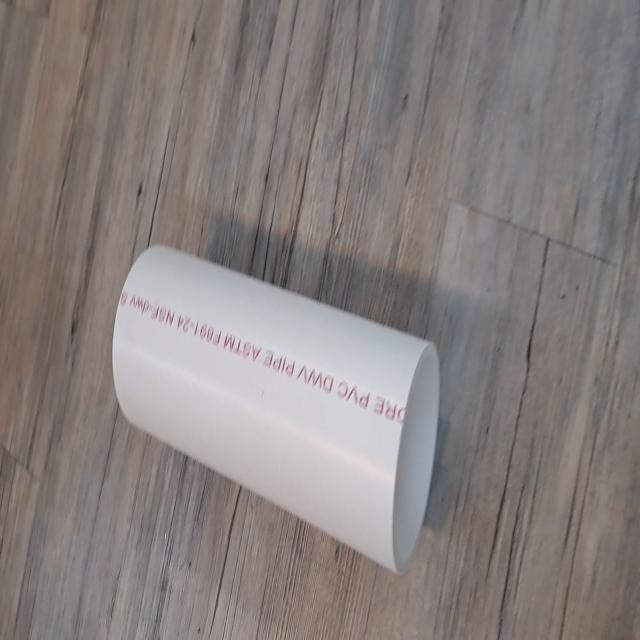CORAL: (107, 236, 441, 580)
